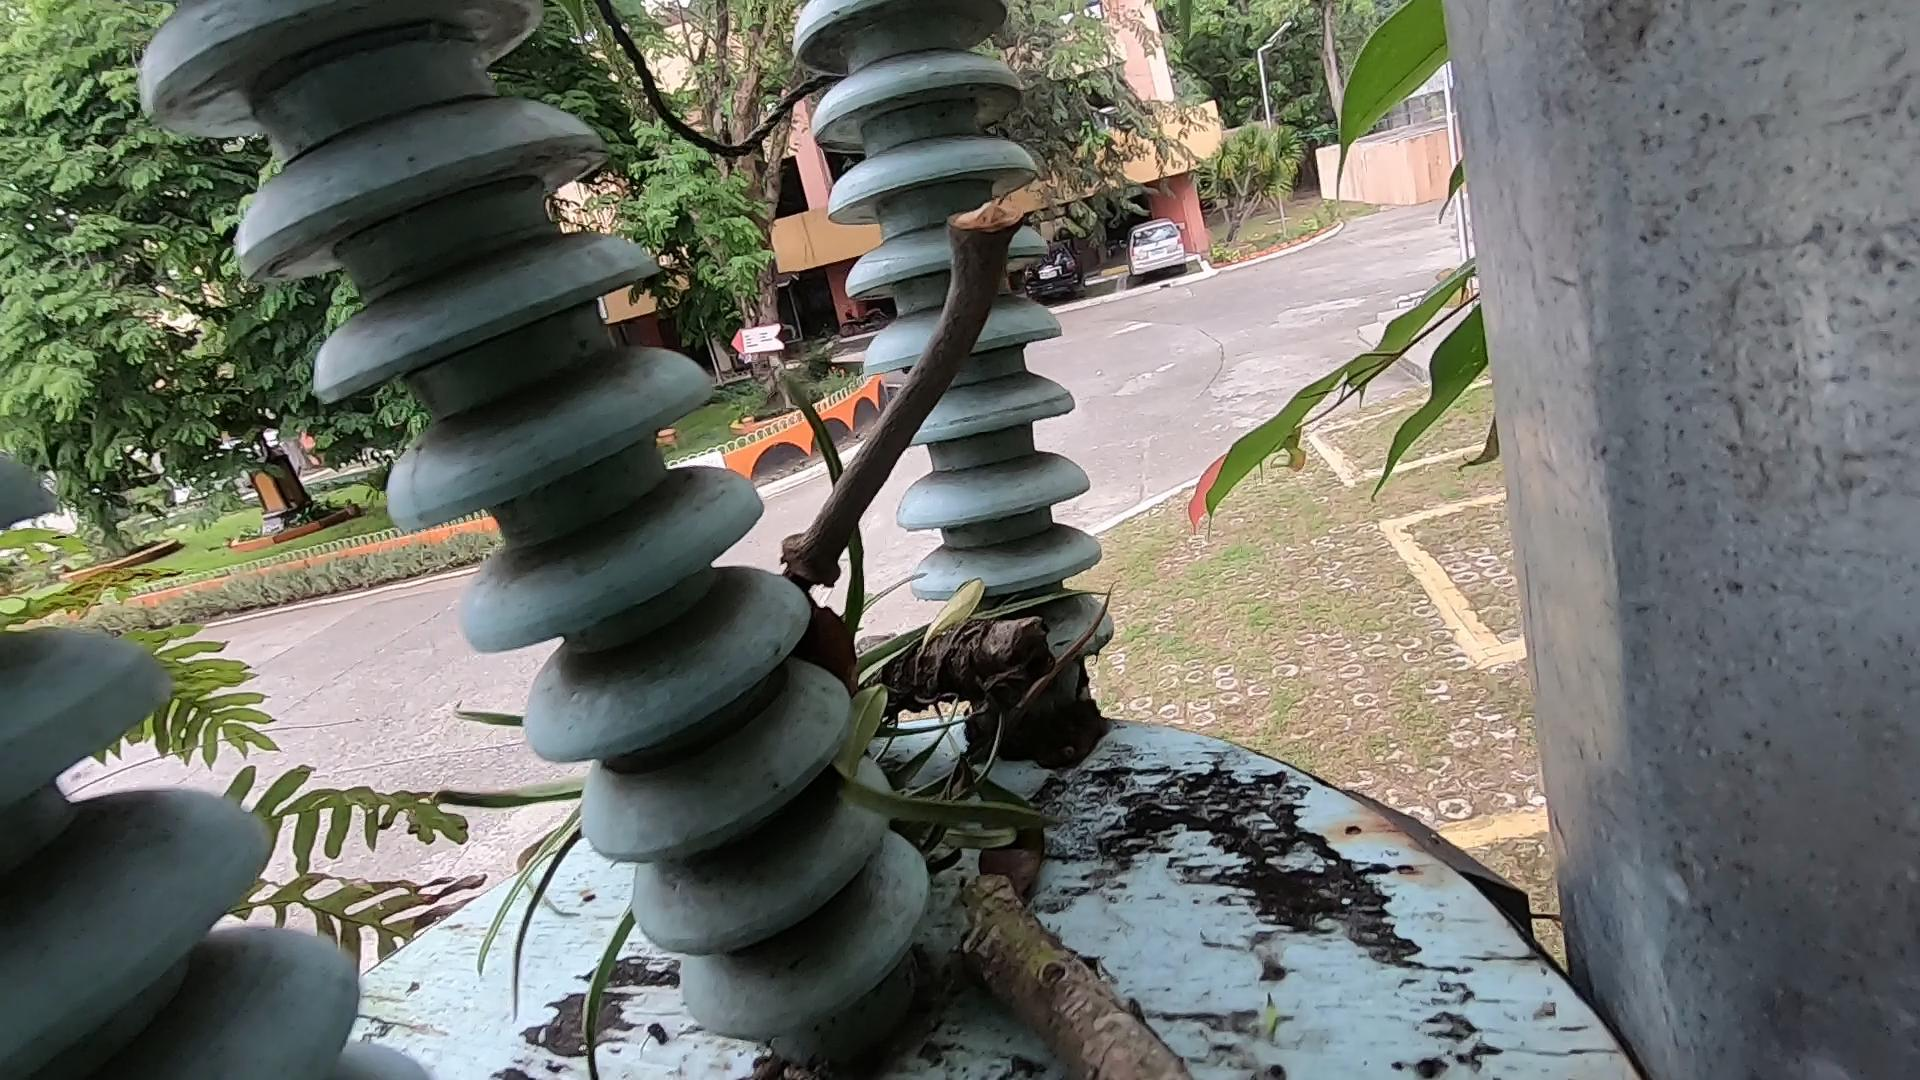branch with leaves: (855, 564, 1279, 1080)
tree branch: (799, 15, 1176, 597)
